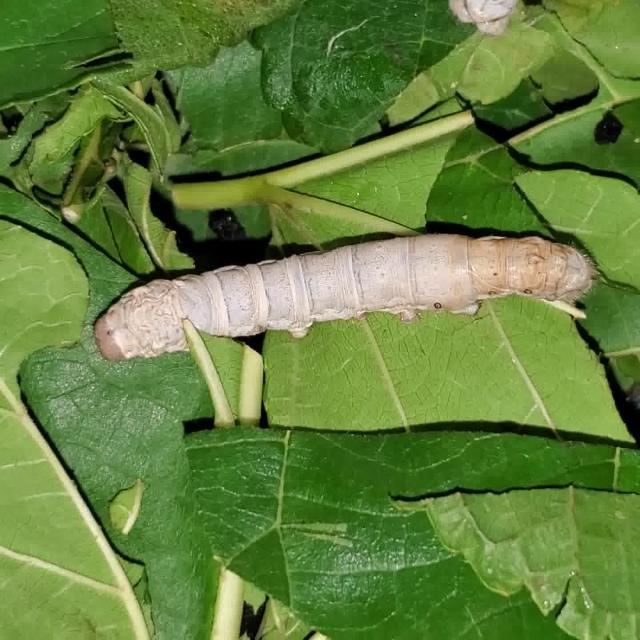Grasserie: (77, 213, 611, 369)
